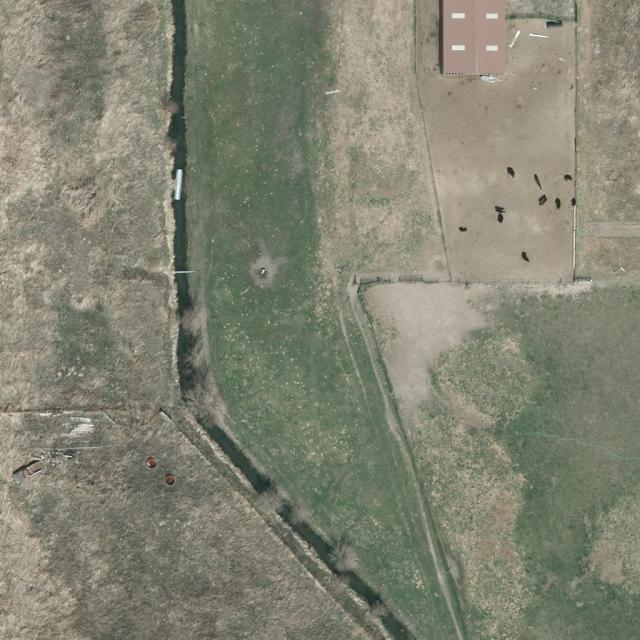vehicle: (12, 460, 43, 486)
